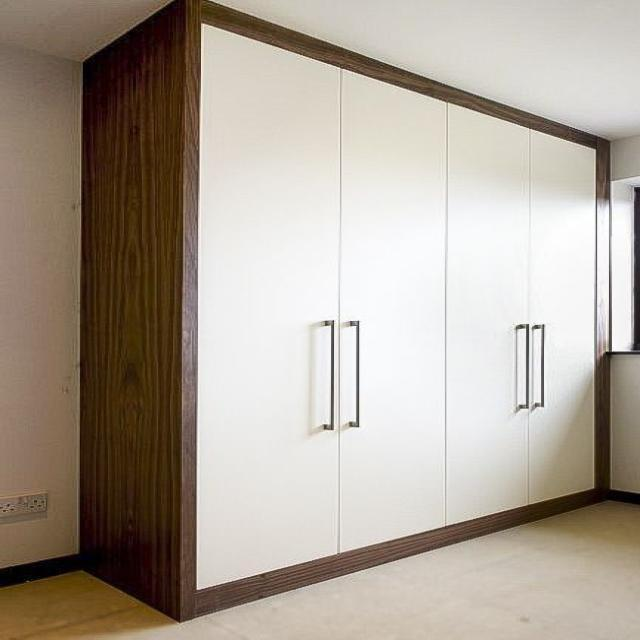door: (194, 13, 446, 591), (444, 99, 602, 531)
